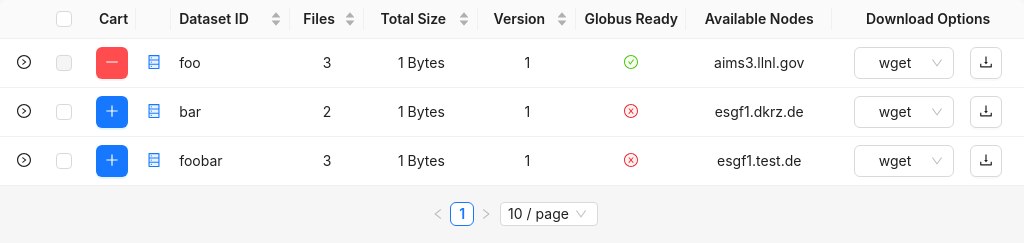
Test: test main table UI › handles downloading an item via wget
Expected: the row with test id "cart-items-row-0" is shown, [0,39,1023,88]
Expected: the 1st picture named "download" is shown, [979,55,993,69]
Click the 2nd button named "download".
click(986, 63)  # box [970,47,1002,79]
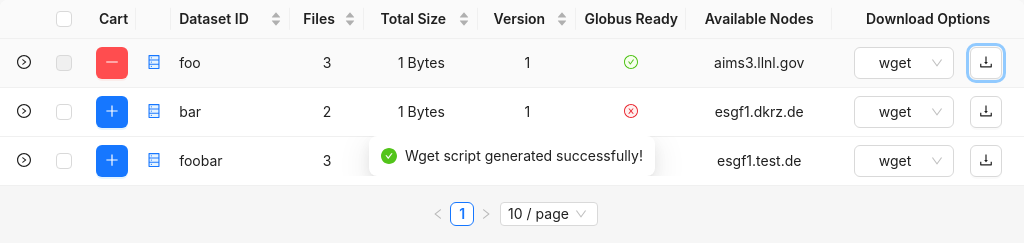
Expected: the text "Wget script generated successfully!" is shown, [405,145,643,167]
